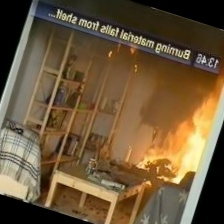fire: (135, 55, 224, 188)
